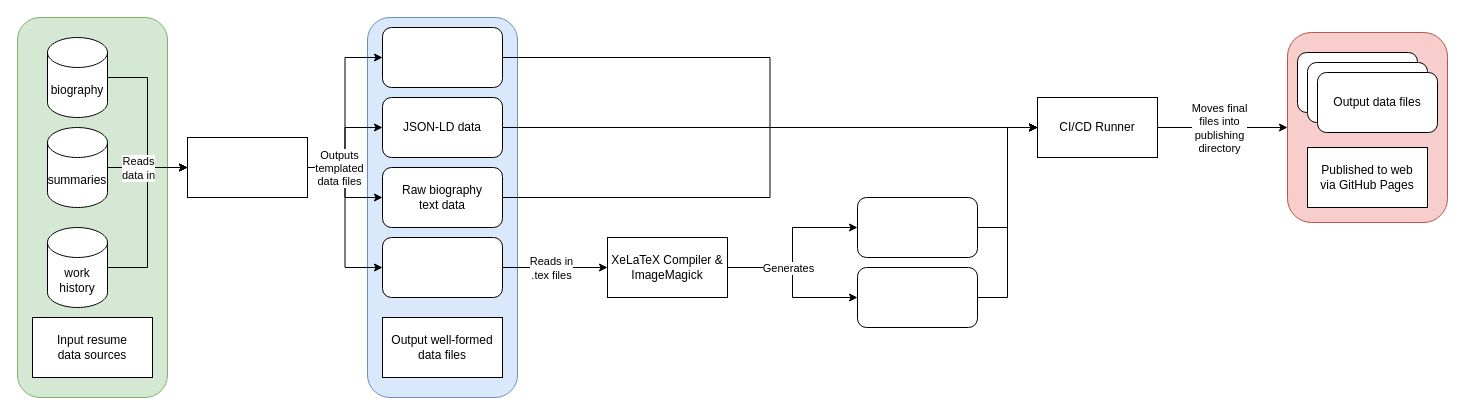
This 1465x415 diagram has some shape labels left out. Here are the shapes that lost their labels. From the top down, the centre of each, then its label:
At (x=442, y=57): "Raw JSON data".
At (x=247, y=167): "main.py".
At (x=917, y=227): "Resume .pdf file".
At (x=442, y=267): "LaTeX resume files".
At (x=917, y=297): "Resume .png thumbnail image".
